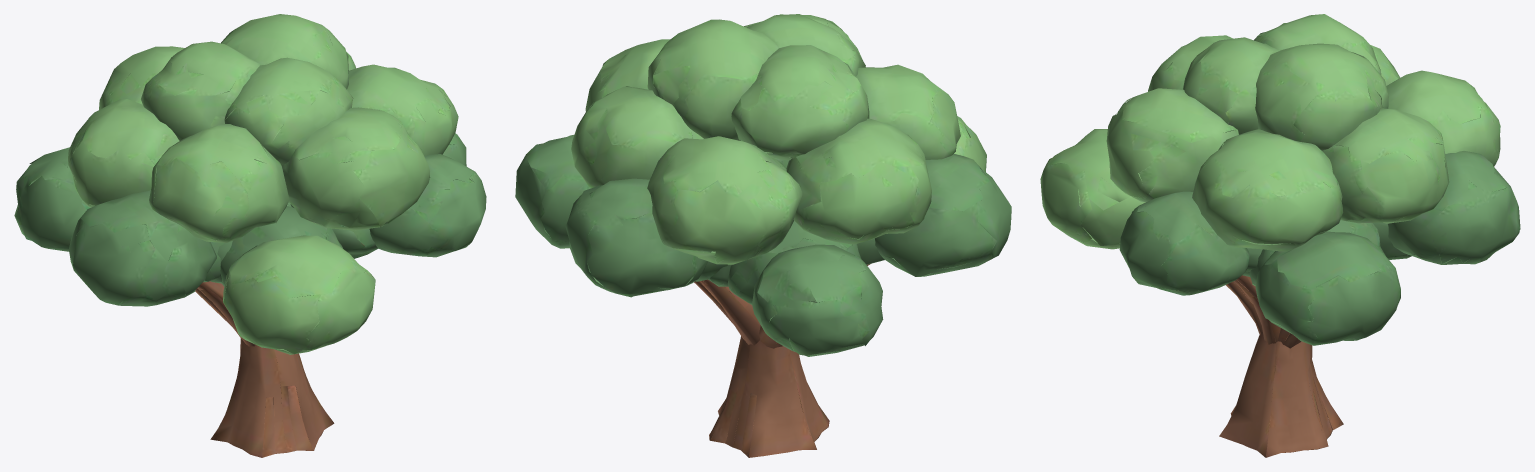
The model's file is oak-tree.glb.
3 renders of one model, left to right at view 1: azimuth 30°, elevation 25°; view 2: azimuth 150°, elevation 25°; view 3: azimuth 270°, elevation 25°, orthographic. The views are drawn at different scales.
Parts seen in each view (by area): view 1: oak-tree_body; view 2: oak-tree_body; view 3: oak-tree_body.
Part boxes in pixels (x1=…): oak-tree_body: x1=14, y1=14, x2=486, y2=457; oak-tree_body: x1=515, y1=14, x2=1011, y2=457; oak-tree_body: x1=1040, y1=14, x2=1520, y2=457.
Bounding box in the file's own units: 7.66 × 6.86 × 7.53.
Materials: 1 (1 with a texture image).
